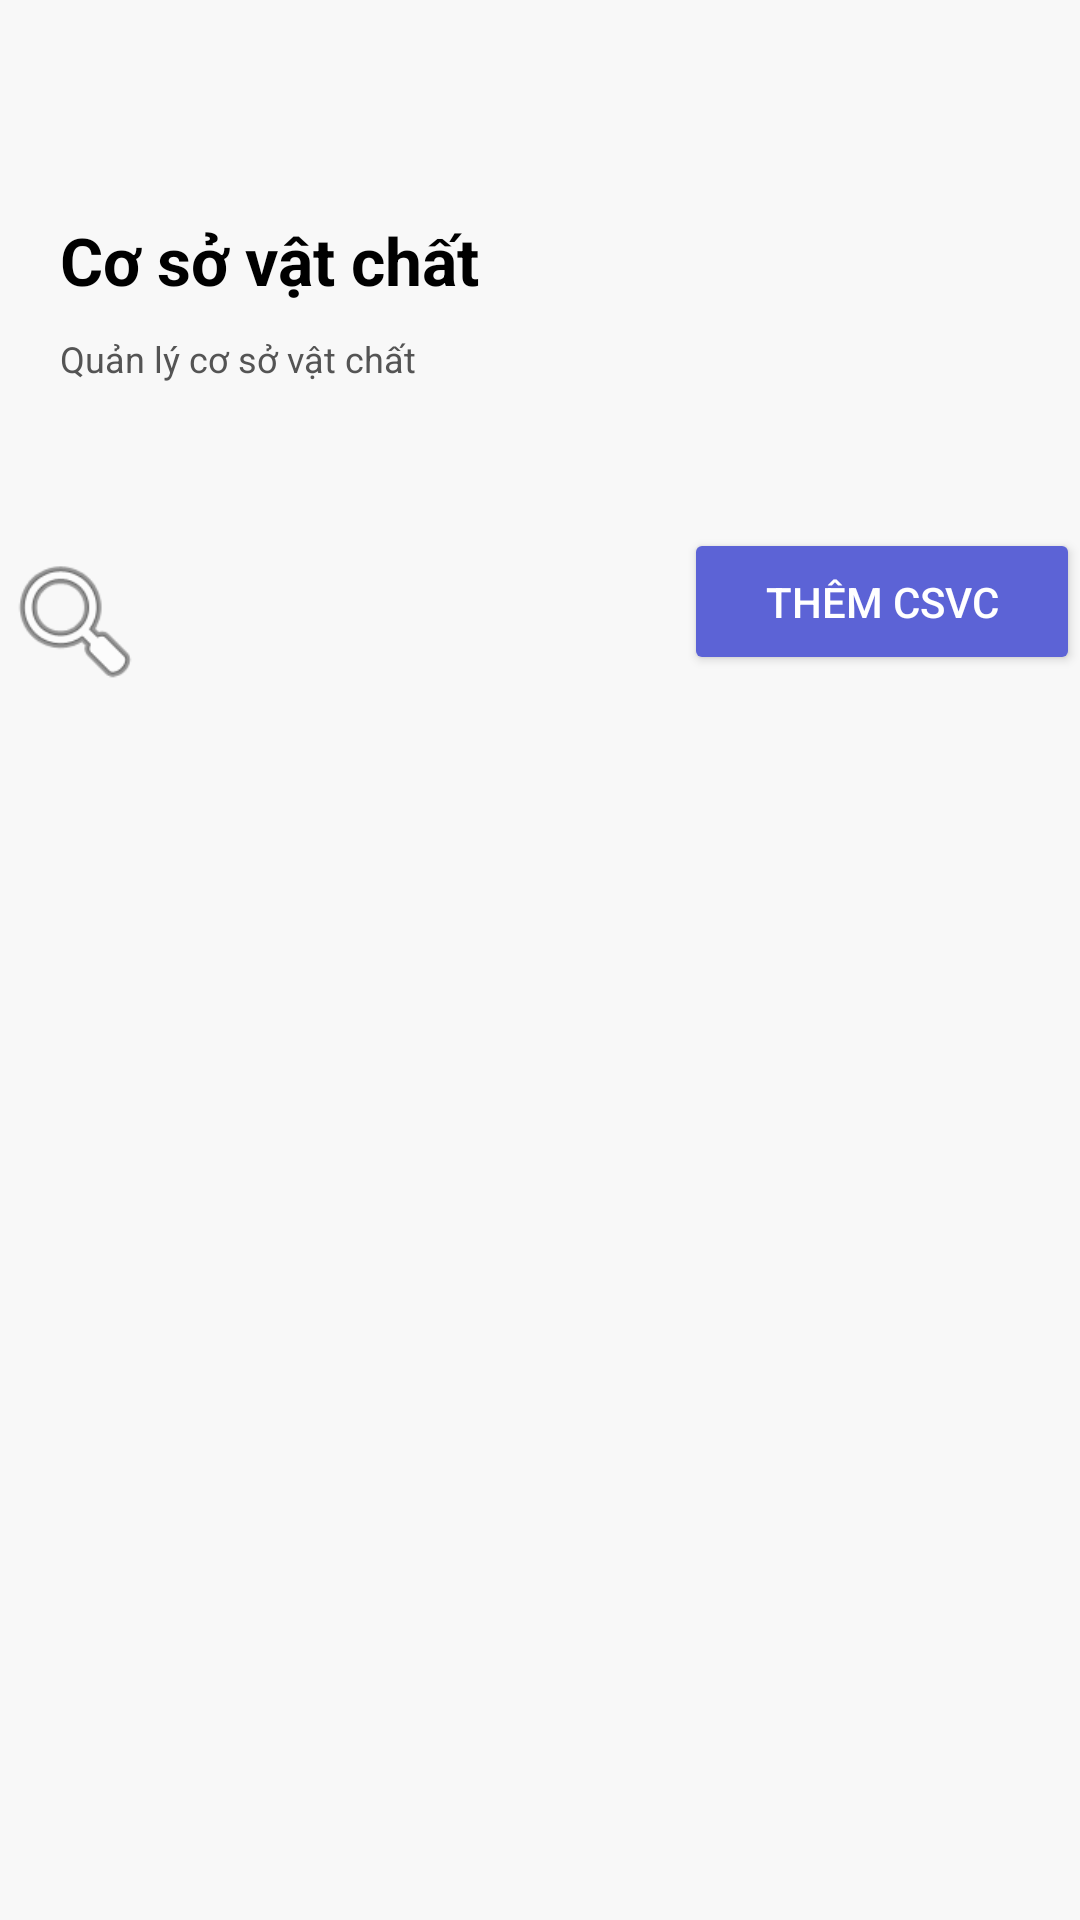

Where icons sit on this 1080*1920 app screen, as (x1, y1, x2, y2):
search: (19, 566, 131, 678)
